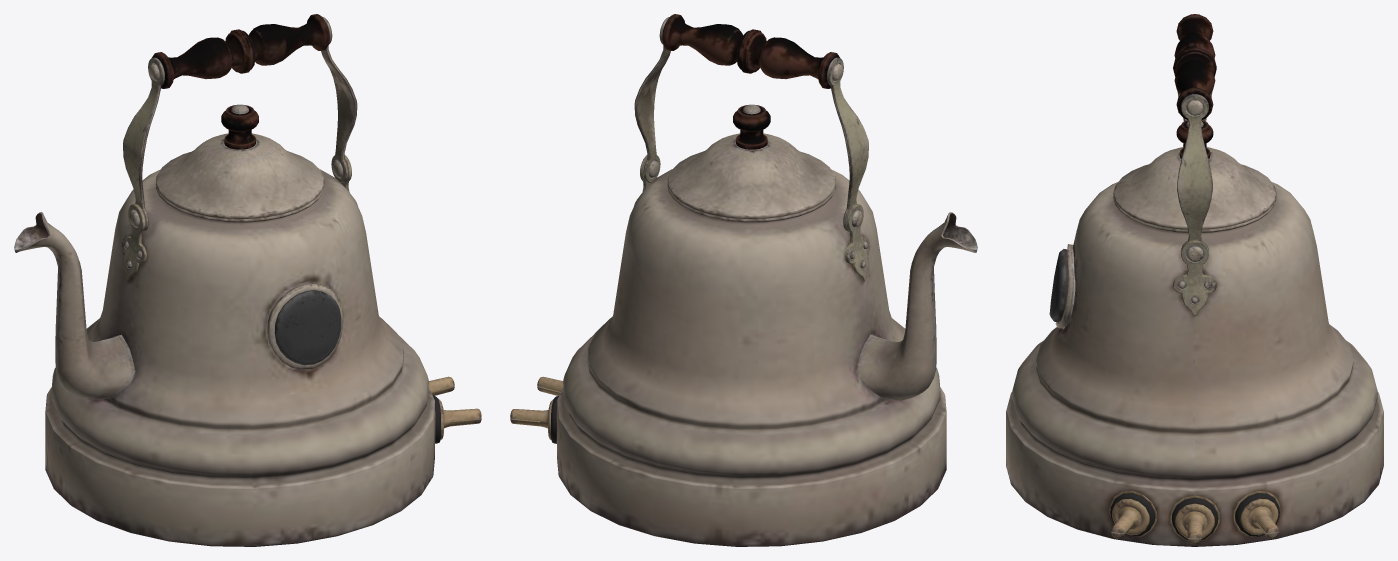
File: ph_vintage_electric_kettle.glb
3 renders of one model, left to right at view 1: azimuth 30°, elevation 25°; view 2: azimuth 150°, elevation 25°; view 3: azimuth 270°, elevation 25°, orthographic. The views are drawn at different scales.
Visible parts, largest first — view 1: vintage_electric_kettle; view 2: vintage_electric_kettle; view 3: vintage_electric_kettle.
Part boxes in pixels (x1,y1,x2,y2): vintage_electric_kettle: (14, 14, 481, 546); vintage_electric_kettle: (510, 14, 977, 546); vintage_electric_kettle: (1006, 14, 1383, 546).
Bounding box in the file's own units: 0.3209 × 0.3047 × 0.2485.
2 materials, 2 textured.
